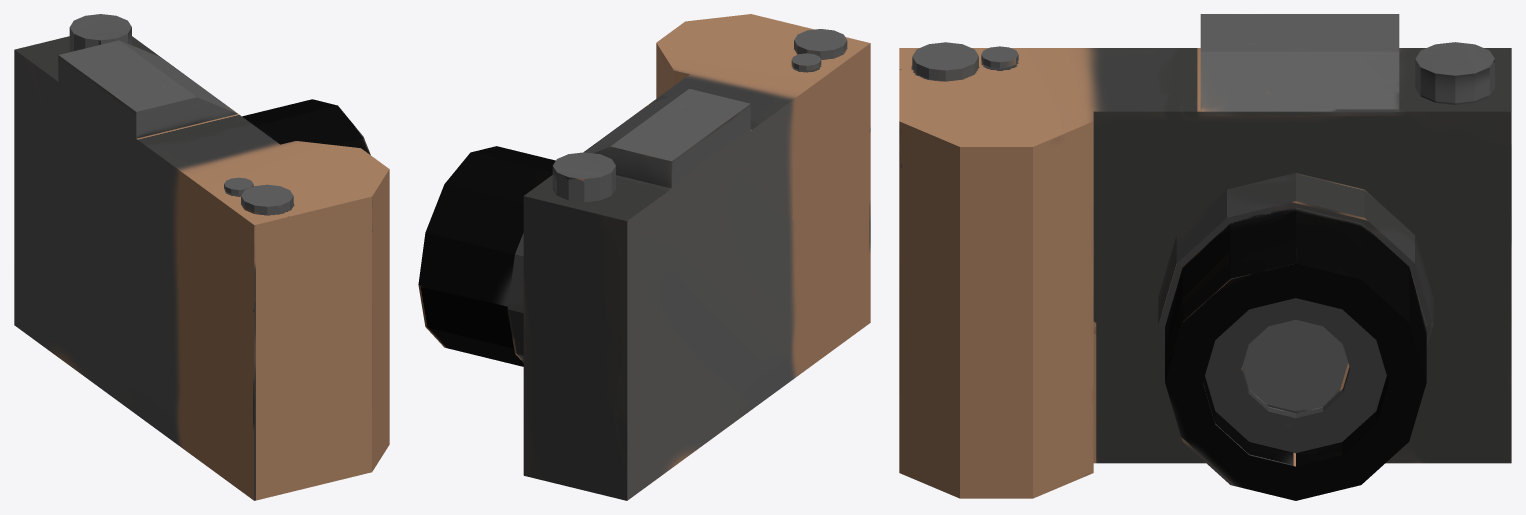
File: Camera.glb
The picture shows the model from 3 angles, left to right: view 1: azimuth 30°, elevation 25°; view 2: azimuth 150°, elevation 25°; view 3: azimuth 270°, elevation 25°; orthographic projection. The views are drawn at different scales.
Parts seen in each view (by area): view 1: Cube; view 2: Cube; view 3: Cube.
Part boxes in pixels (x1,y1,x2,y2): Cube: (14, 14, 389, 500); Cube: (418, 14, 870, 500); Cube: (899, 14, 1511, 500).
Bounding box in the file's own units: 1.15 × 1.39 × 2.
1 material, 1 textured.
